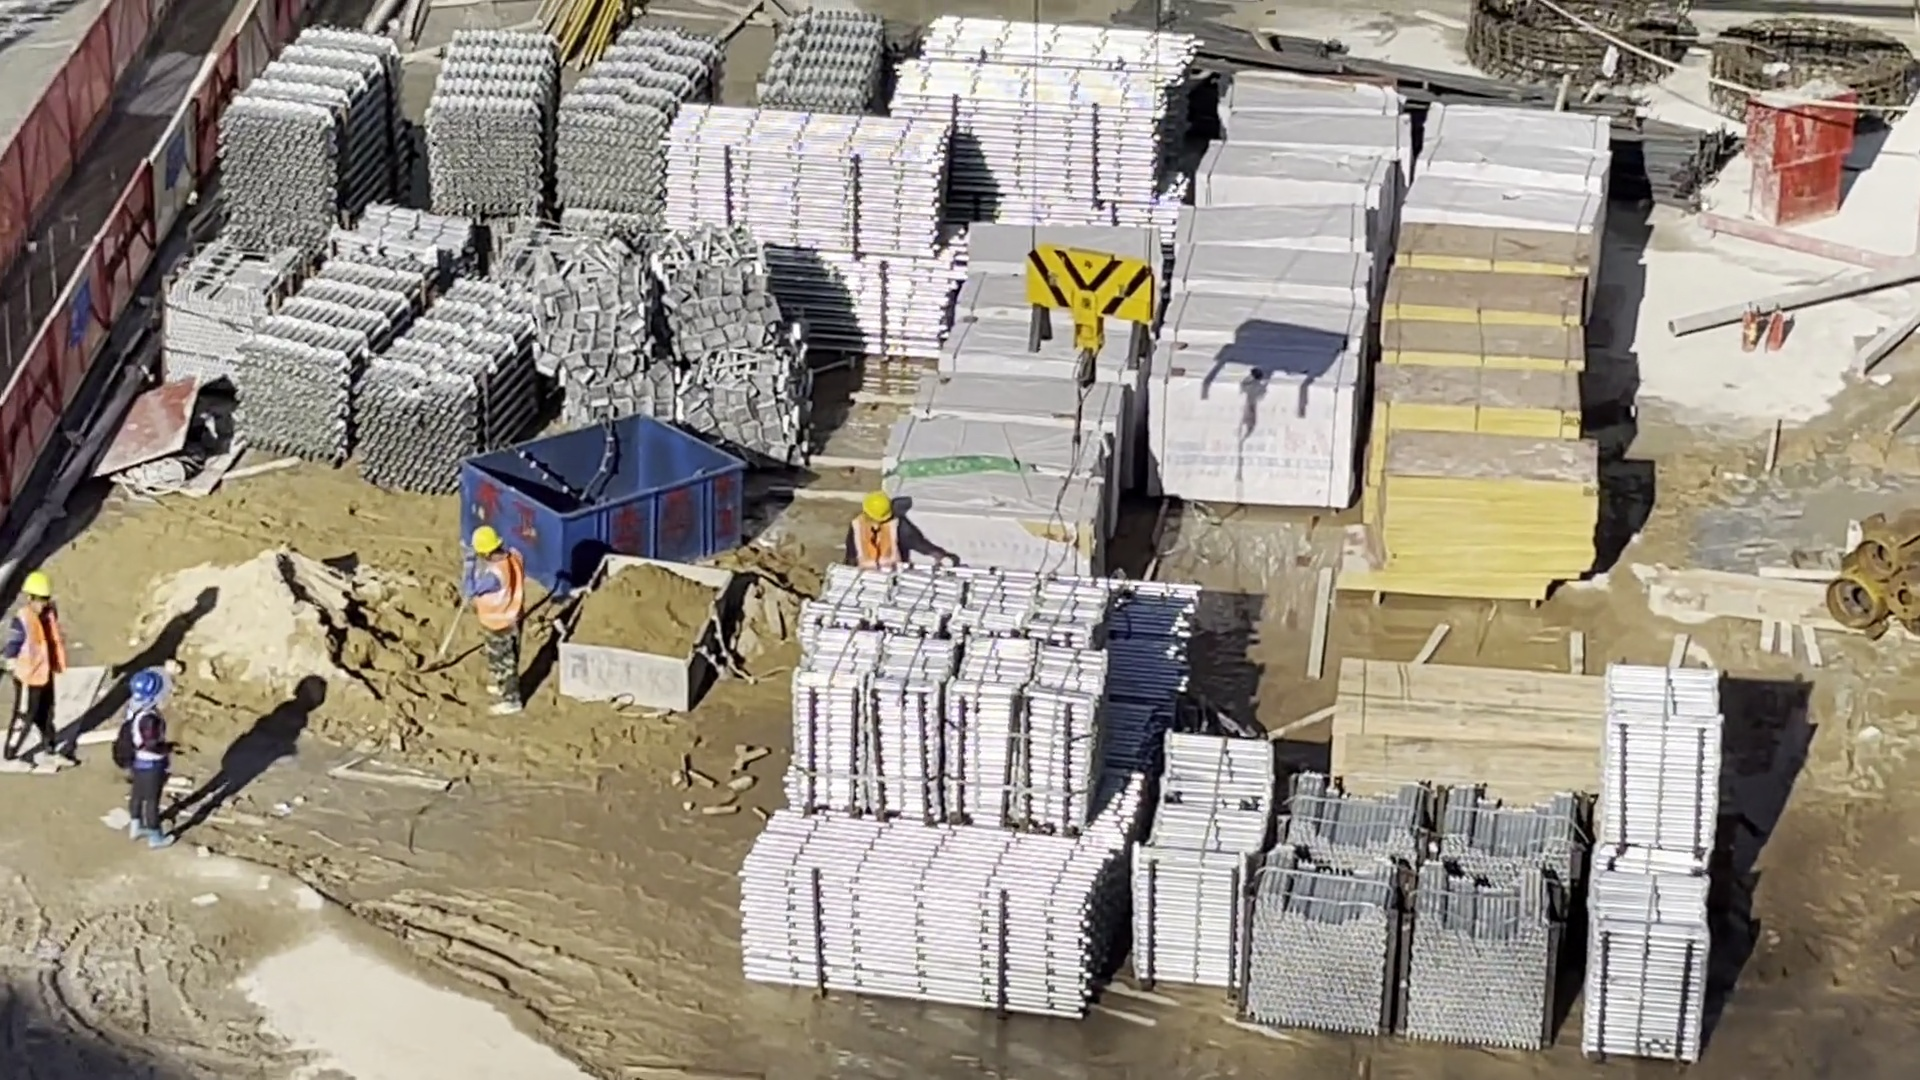fence: (1, 1, 256, 512)
helmet: (17, 560, 63, 609), (124, 661, 168, 706), (855, 491, 904, 526), (464, 520, 506, 561)
hook: (1003, 223, 1185, 395)
hopper: (468, 400, 740, 569), (553, 542, 698, 683)
person: (451, 511, 559, 738), (108, 662, 201, 853), (2, 571, 76, 760), (835, 486, 931, 579)
scaffold: (806, 563, 1723, 1053), (682, 78, 952, 364), (902, 1, 1172, 220), (283, 177, 465, 482), (433, 22, 674, 219), (259, 2, 401, 234), (792, 1, 874, 124)
vest: (465, 567, 537, 628), (11, 606, 65, 673), (852, 524, 907, 555)
